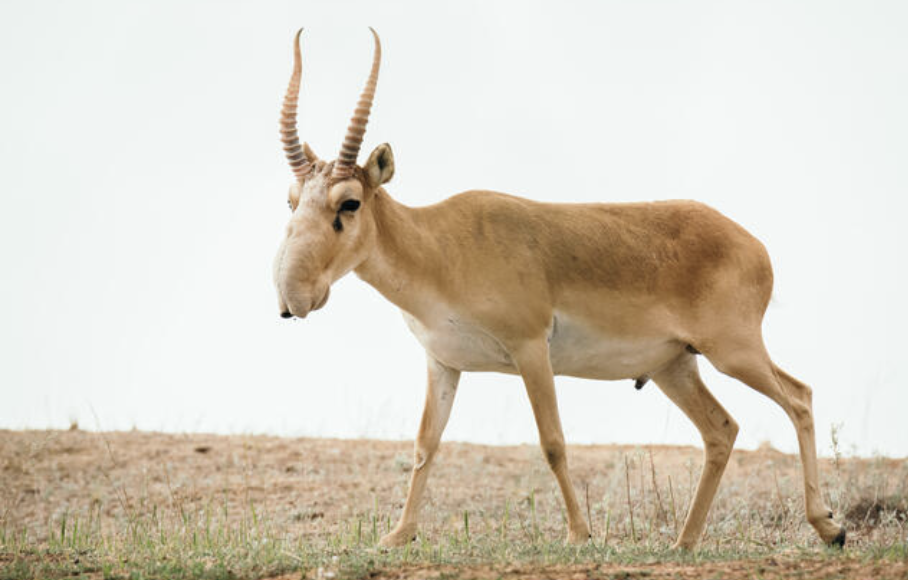saiga: (273, 25, 859, 549)
